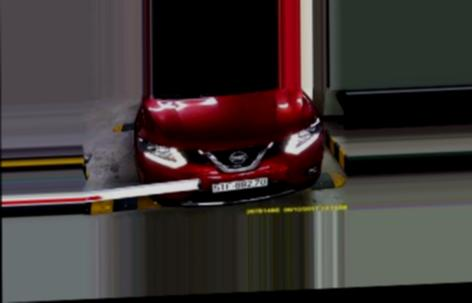License_Plate: (210, 174, 267, 195)
